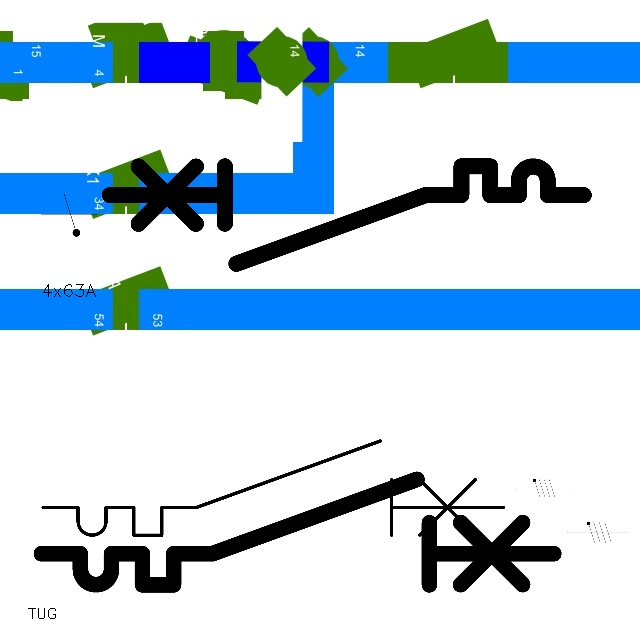interruptor_termomagnetico: (28, 466, 567, 598), (97, 154, 596, 276), (31, 429, 515, 547)
